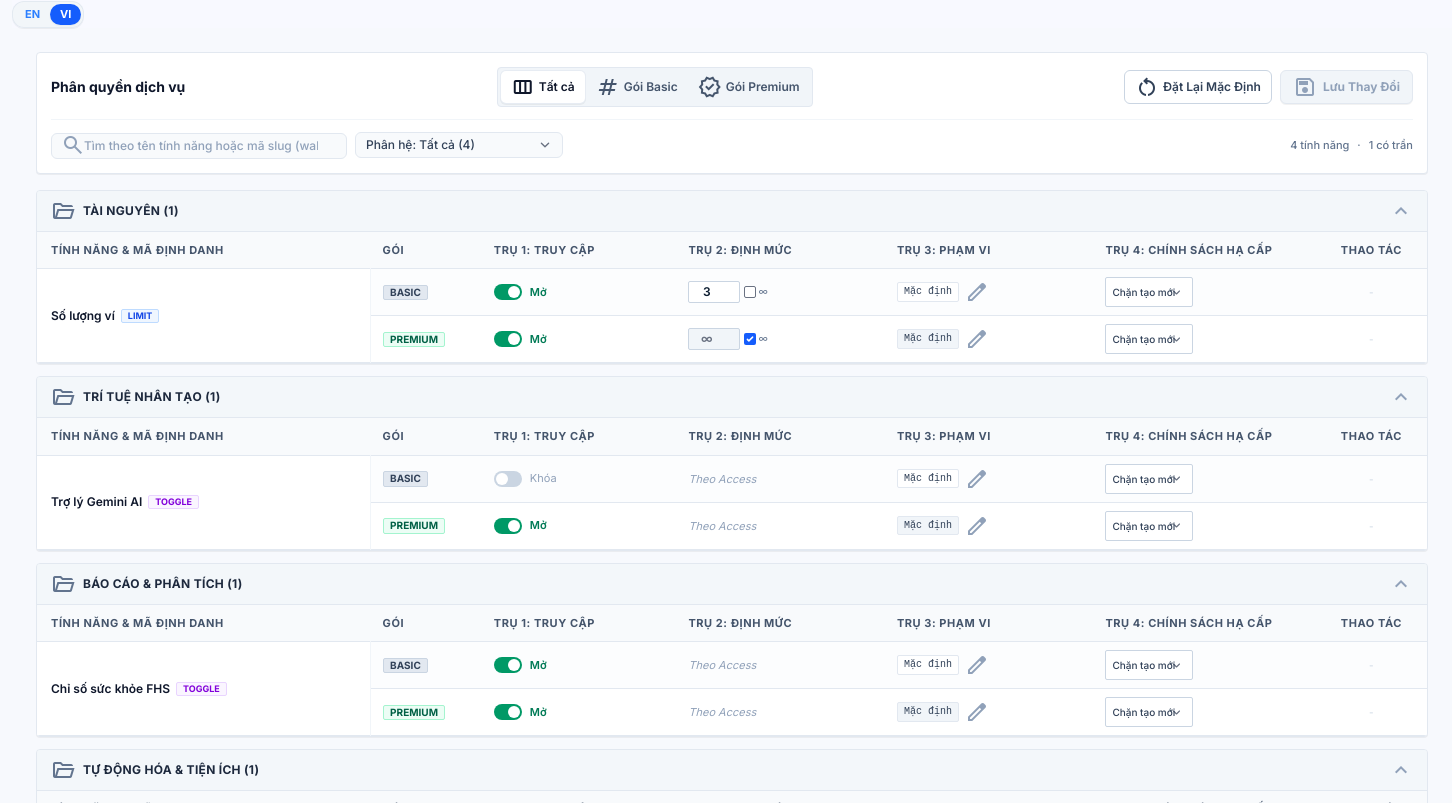
Test case: Admin-web Phase 2 i18n Suite — Core Business Pages (2-Tier Testing) › 4. PermissionManagementPage i18n Verification › 4.1. Nhóm tính năng và thông điệp ma trận quyền tự động cập nhật khi chuyển EN
Expected: the text "Tài nguyên (1)" is shown, [83,202,179,218]
Expected: the text "Trí tuệ nhân tạo (1)" is shown, [83,389,221,405]
// Tier 2: Chuyển sang EN
Click the button with test id "lang-btn-en": (33, 14) [15,4,50,24]
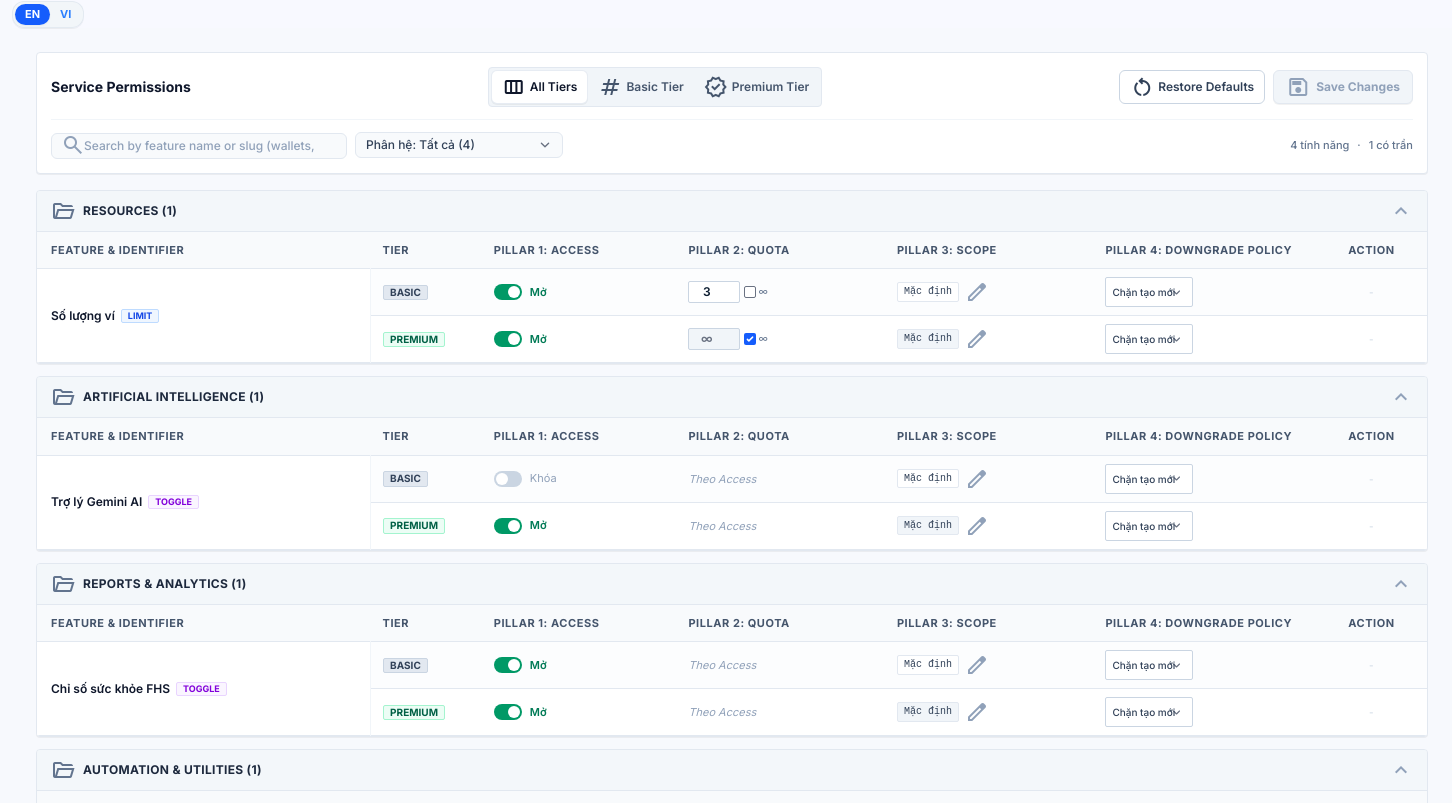
Result: the text "Resources (1)" is shown at [83,202,177,218]
Result: the text "Artificial Intelligence (1)" is shown at [83,389,264,405]
Result: the text "Reports & Analytics (1)" is shown at [83,576,247,592]
